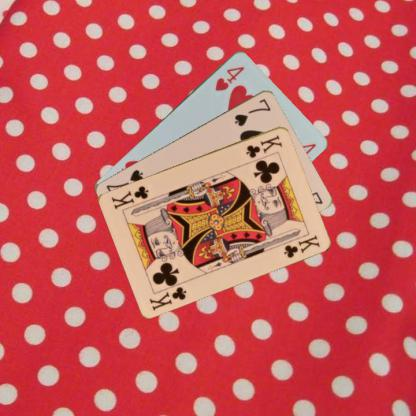4h: (212, 63, 246, 92)
7s: (232, 95, 272, 128)
Kc: (147, 283, 188, 312), (243, 132, 284, 160)
